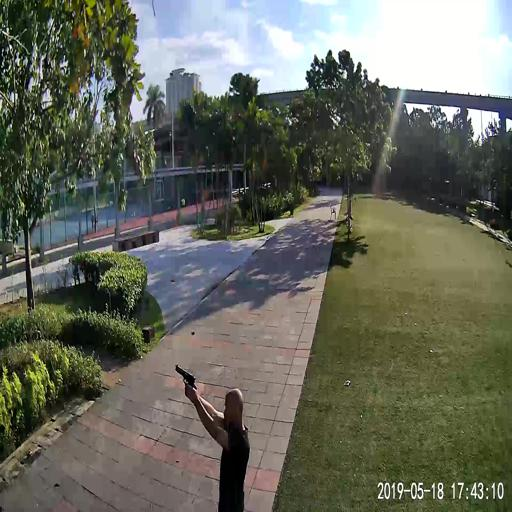pistol: (171, 363, 200, 398)
